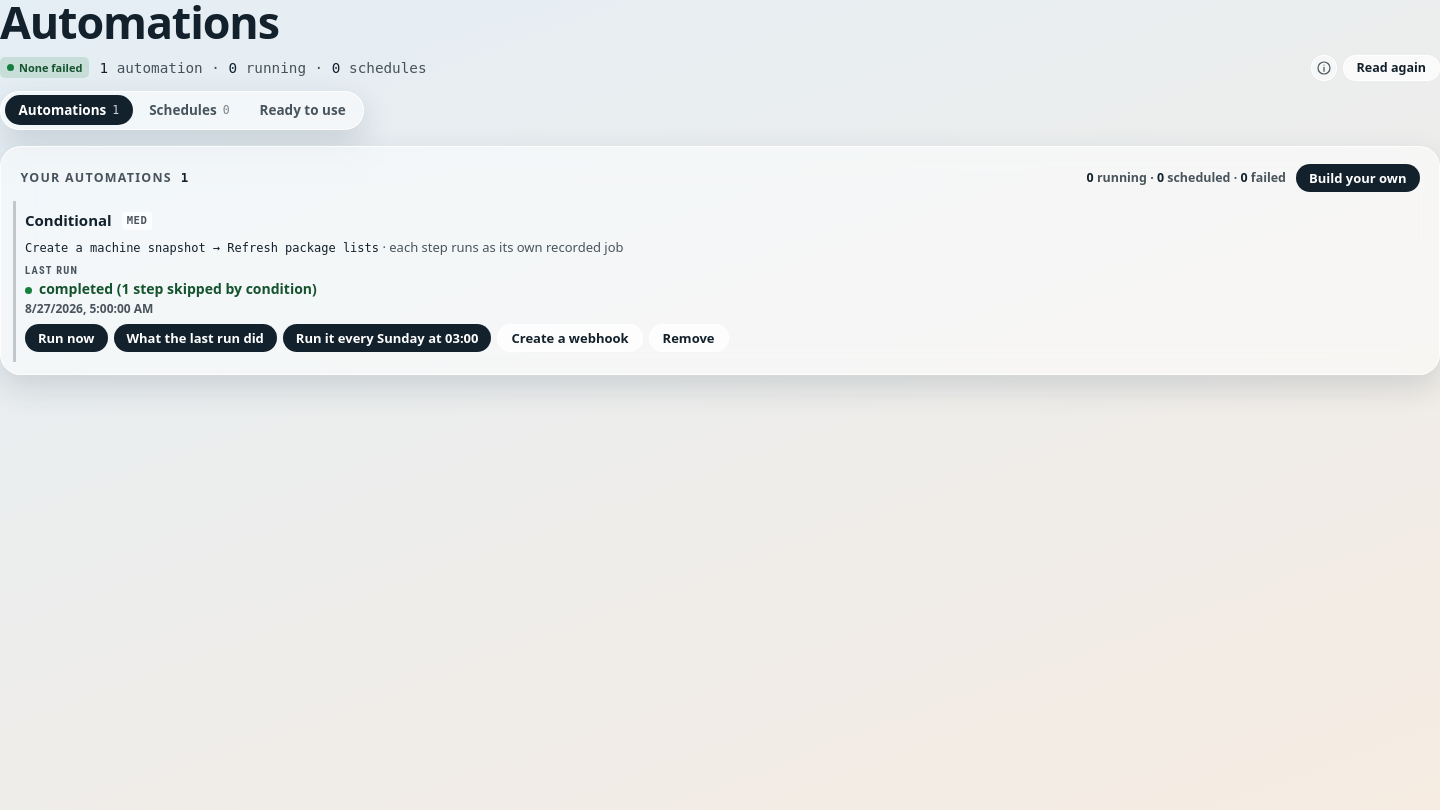
Automations page › shows a skipped step holding its place in the last run, without a terminal
Click the button "What the last run did" at (195, 338), box [114, 324, 277, 352]
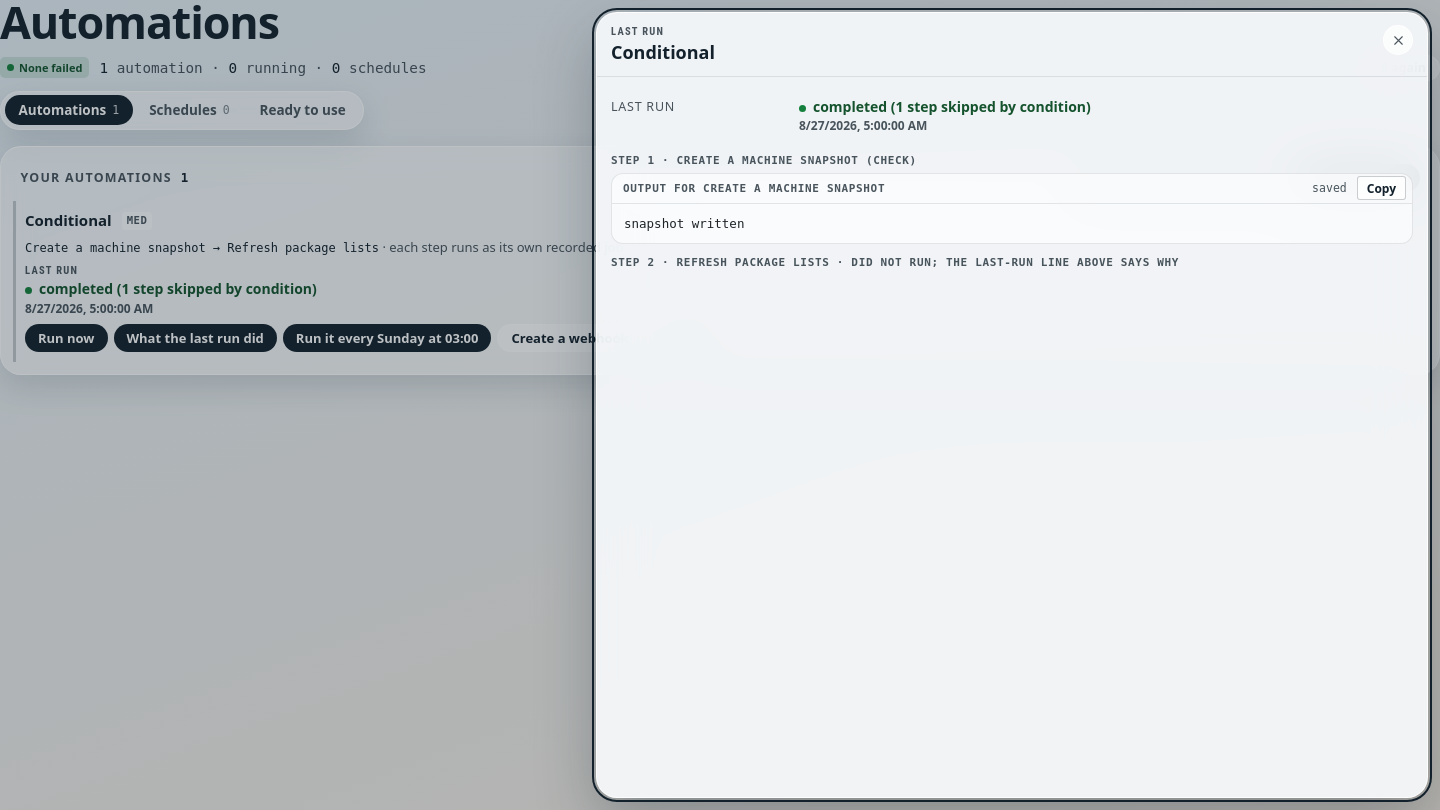
Now the text "snapshot written" is shown, box [624, 216, 744, 231]
Now the text "completed (1 step skipped by condition)" is shown, box [813, 96, 1091, 116]
